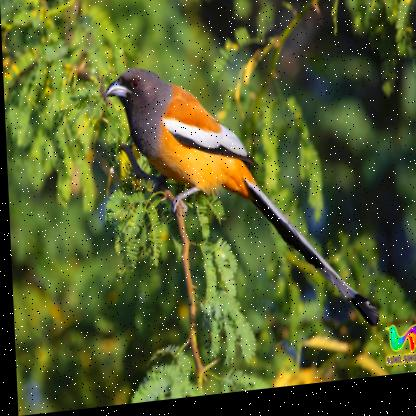Burung: (101, 49, 375, 356)
